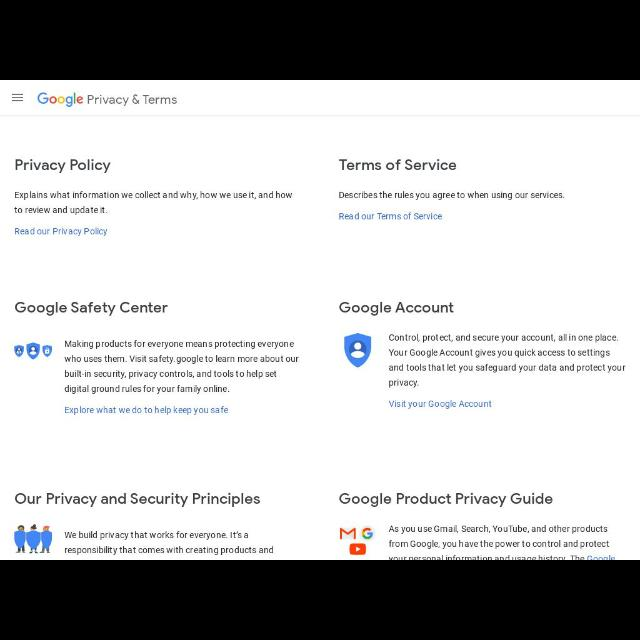icon: (12, 92, 22, 104)
image: (37, 92, 177, 110), (13, 525, 53, 553), (339, 526, 375, 556), (344, 334, 374, 368), (12, 344, 54, 358)
text: (388, 332, 628, 390), (64, 341, 300, 392), (388, 527, 612, 559), (15, 192, 294, 216), (64, 530, 274, 556), (16, 492, 260, 508), (339, 190, 565, 202), (340, 493, 552, 505), (15, 301, 168, 315), (339, 158, 456, 174), (65, 406, 231, 416), (340, 301, 454, 315), (14, 158, 110, 174), (338, 212, 444, 222), (14, 228, 108, 238), (390, 400, 492, 408)
toolbar: (1, 81, 639, 115)
